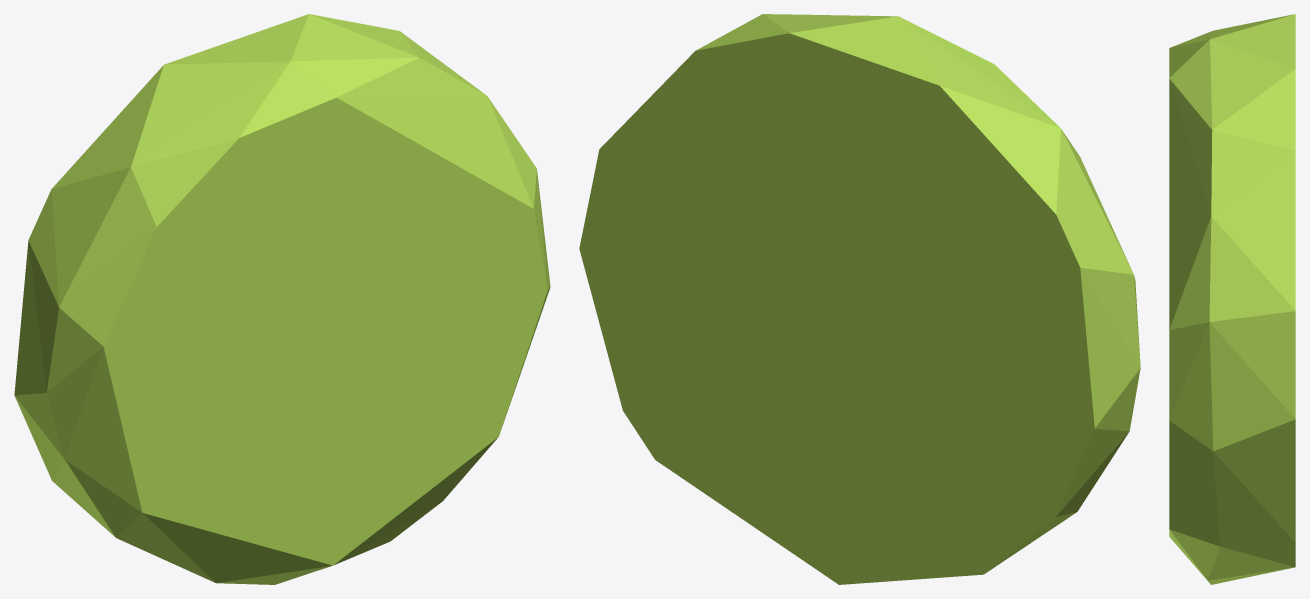
Rendered from ur3_link_3_coll_3.dae.
The picture shows the model from 3 angles, left to right: view 1: azimuth 30°, elevation 25°; view 2: azimuth 150°, elevation 25°; view 3: azimuth 270°, elevation 25°; orthographic projection. The views are drawn at different scales.
Visible parts, largest first — view 1: Node_000002223FC9BBD0; view 2: Node_000002223FC9BBD0; view 3: Node_000002223FC9BBD0.
Boxes of the visible parts, x1,y1,x2,y2 form: Node_000002223FC9BBD0: (14,14,550,584); Node_000002223FC9BBD0: (579,14,1140,584); Node_000002223FC9BBD0: (1169,14,1295,584).
Size of the model in its own units: 0.063 by 0.0623 by 0.0139.
